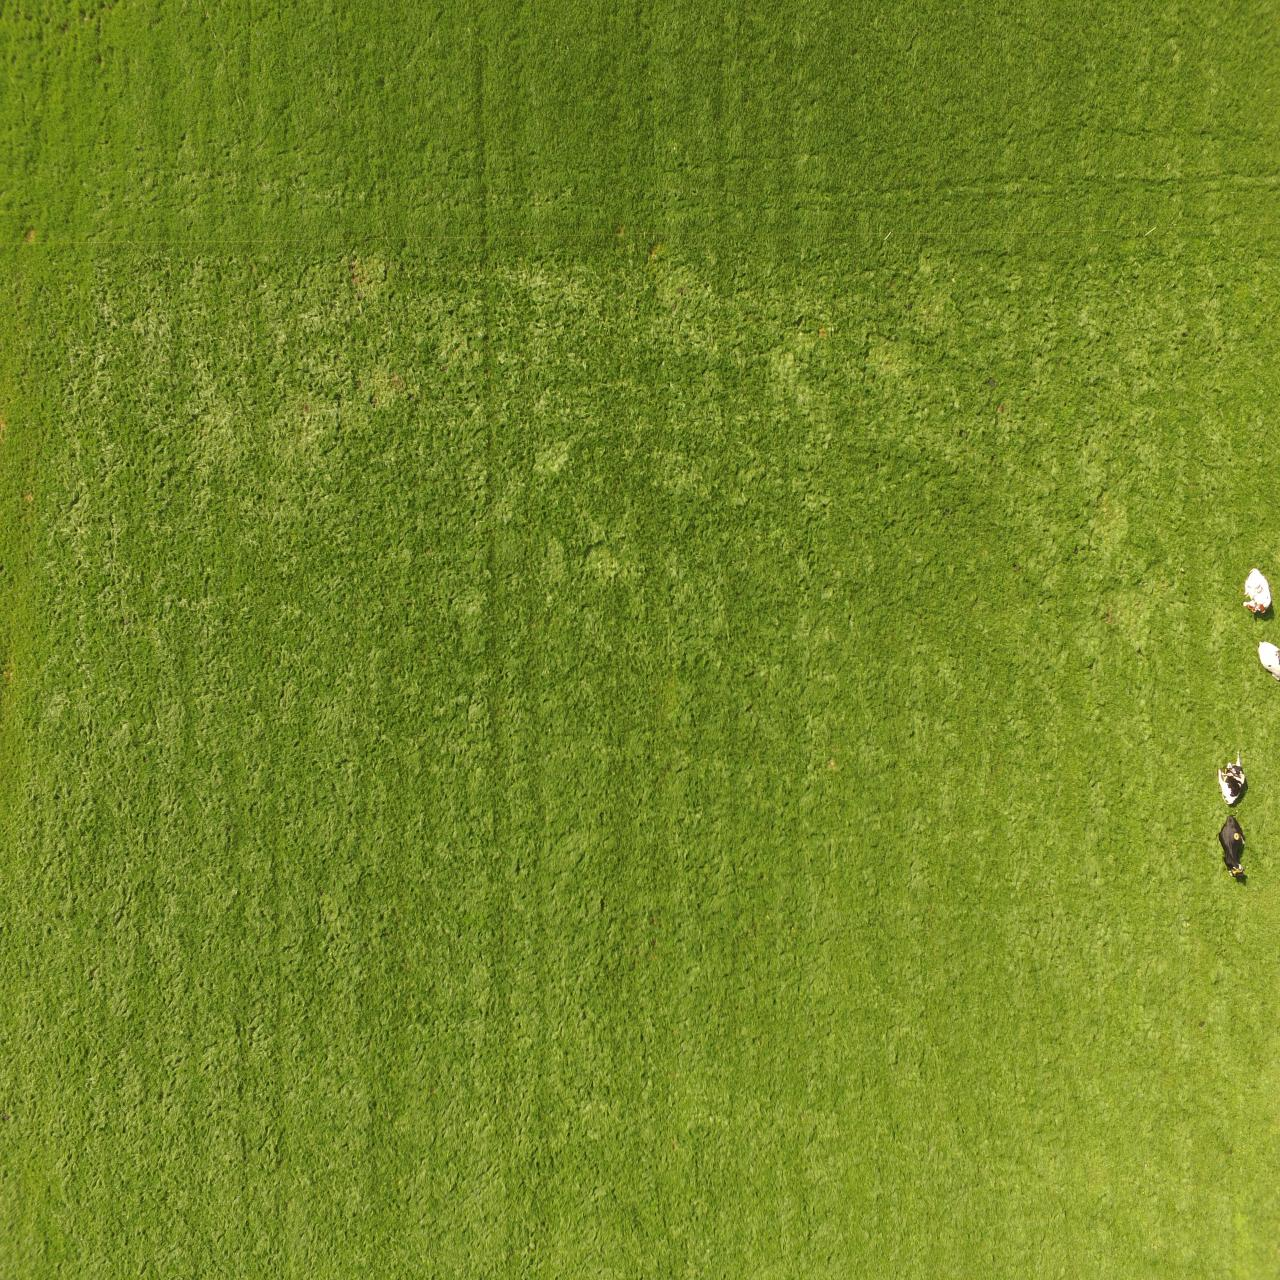cow: (1219, 811, 1248, 879), (1217, 749, 1245, 808), (1242, 566, 1271, 615), (1258, 638, 1280, 682)
